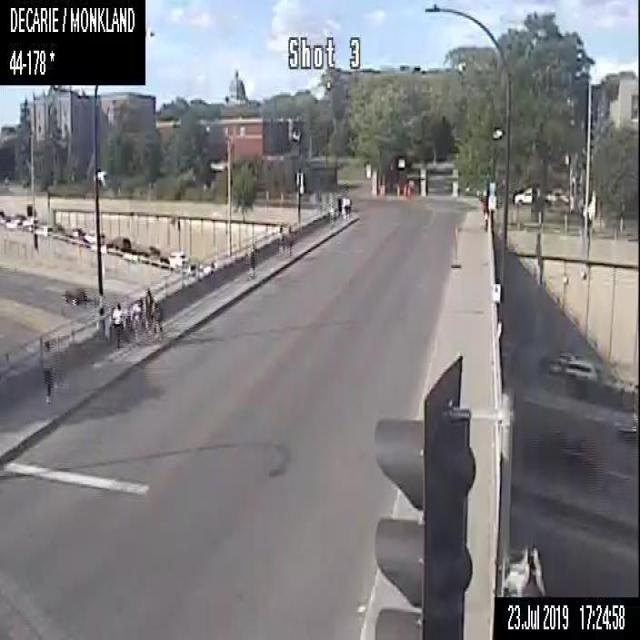pedestrian: (41, 340, 57, 404), (111, 302, 123, 344), (131, 296, 143, 338), (144, 286, 152, 330), (151, 300, 161, 332), (246, 244, 253, 279), (275, 224, 283, 253), (285, 225, 292, 255), (336, 194, 342, 218), (342, 194, 348, 218), (325, 201, 330, 224)
vehicle: (522, 428, 596, 476), (540, 347, 599, 380), (616, 405, 639, 435), (65, 285, 87, 304), (108, 234, 130, 252), (513, 185, 531, 205), (84, 228, 104, 246), (167, 249, 185, 266), (134, 244, 158, 256), (35, 222, 51, 236)
